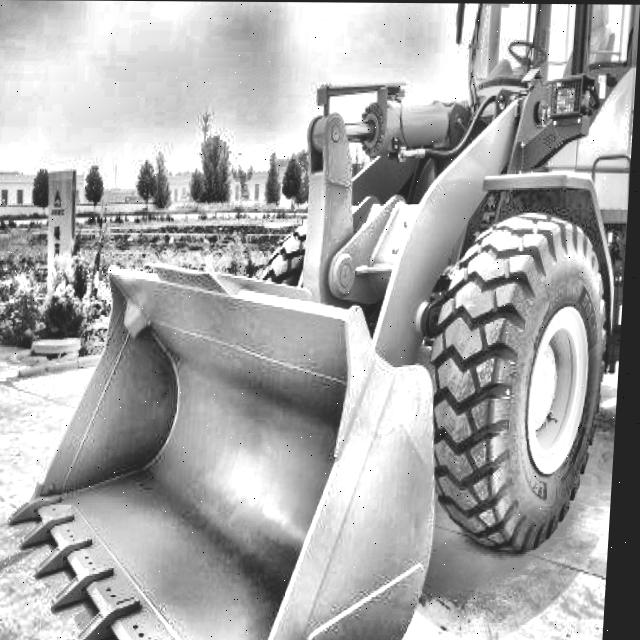buldozerpayloadergrader: (13, 0, 640, 640)
